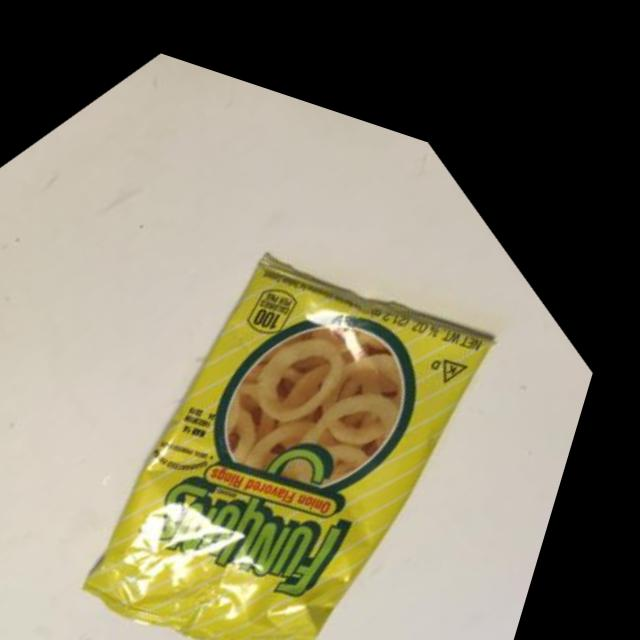trash: (0, 12, 640, 640)
